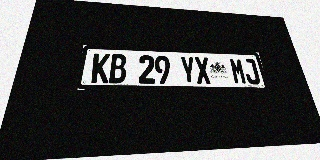2: (139, 55, 155, 84)
9: (155, 55, 171, 84)
B: (109, 54, 127, 83)
J: (242, 58, 261, 84)
K: (91, 53, 110, 83)
M: (229, 58, 248, 84)
X: (194, 57, 212, 84)
Y: (180, 56, 197, 84)
